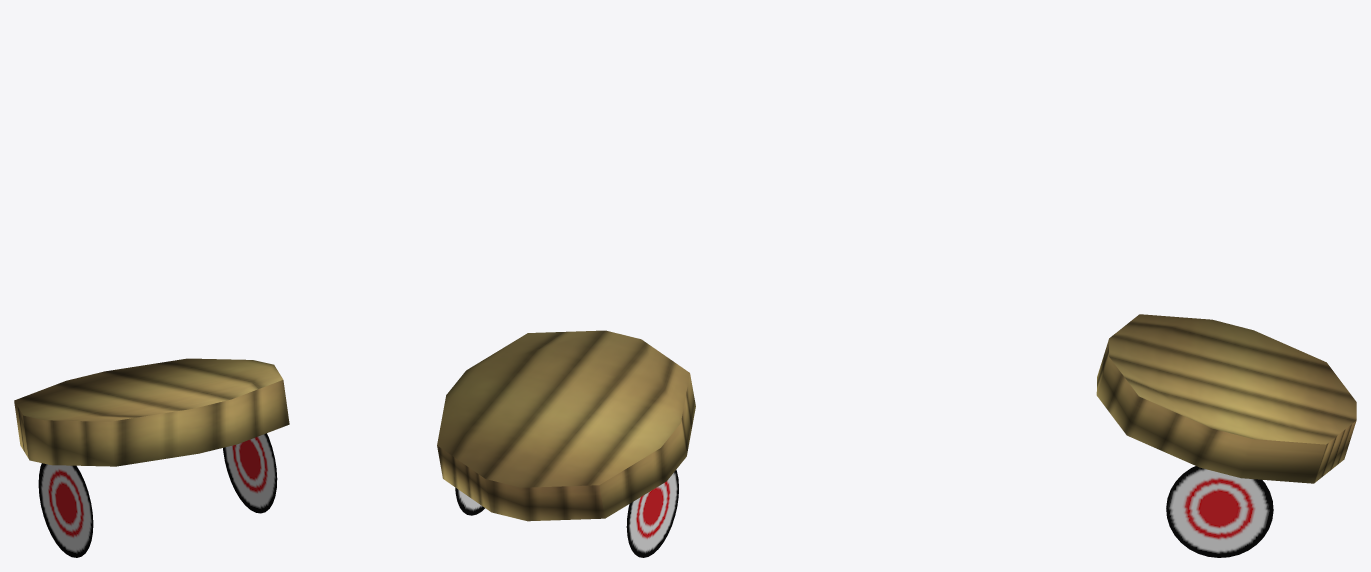
Rendered from helmet_nobre_2.dae.
3 renders of one model, left to right at view 1: azimuth 30°, elevation 25°; view 2: azimuth 150°, elevation 25°; view 3: azimuth 270°, elevation 25°, orthographic. The views are drawn at different scales.
Visible parts, largest first — view 1: helmet_nobre_2; view 2: helmet_nobre_2; view 3: helmet_nobre_2.
Boxes of the visible parts, x1=… form: helmet_nobre_2: x1=14, y1=358, x2=289, y2=557; helmet_nobre_2: x1=437, y1=330, x2=695, y2=557; helmet_nobre_2: x1=1096, y1=314, x2=1356, y2=557.
Size of the model in its own units: 0.5916 by 1.19 by 1.26.
